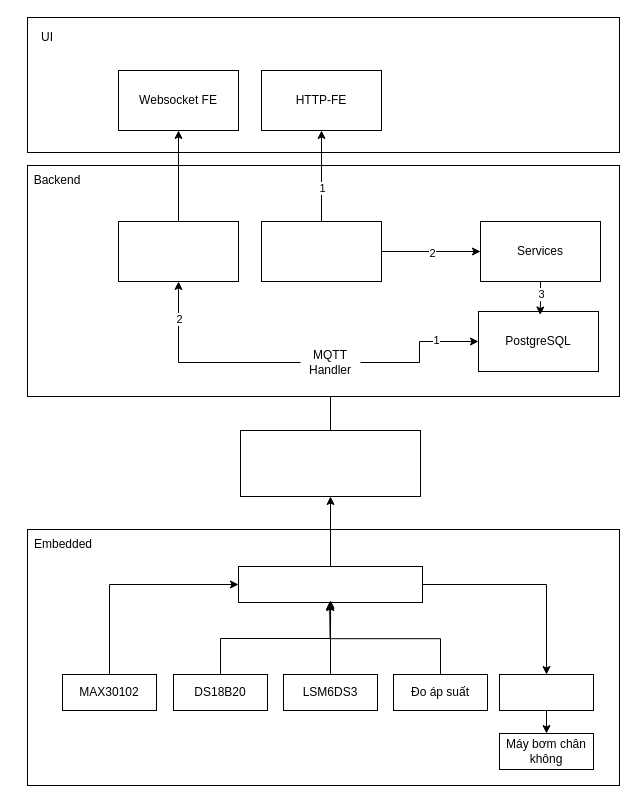
This 637x803 diagram has some shape labels left out. The shapes that lost their labels are listed below. From the top down, each one's centre as x and y in pixels, then its label:
the point at 178,251: Websocket BE
the point at 321,251: HTTP-BE
the point at 330,463: MQTT Broker
the point at 330,584: Seeed Studio ESP32-C3
the point at 546,692: 2N2222 Transistor
